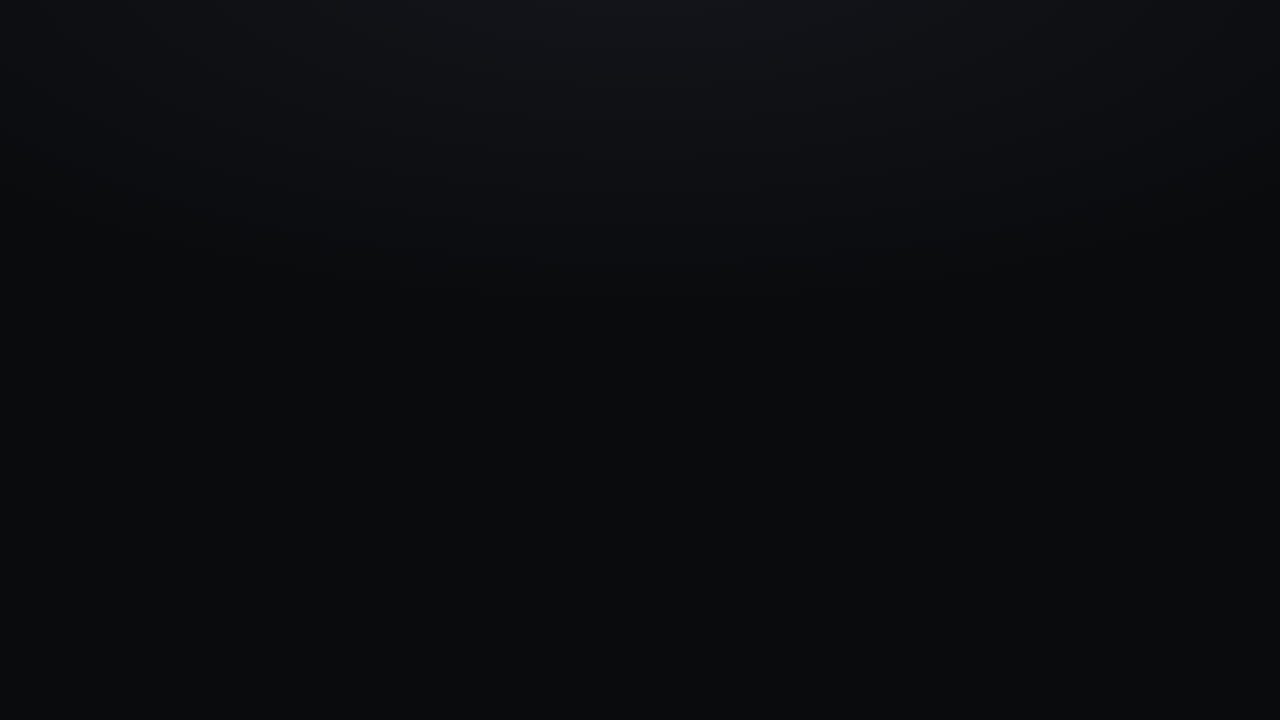
Test: DEV-only 'Toggle free tier (dev)' command (D-31/D-32) › a command-only query match never shows 'No tools match'
Press k
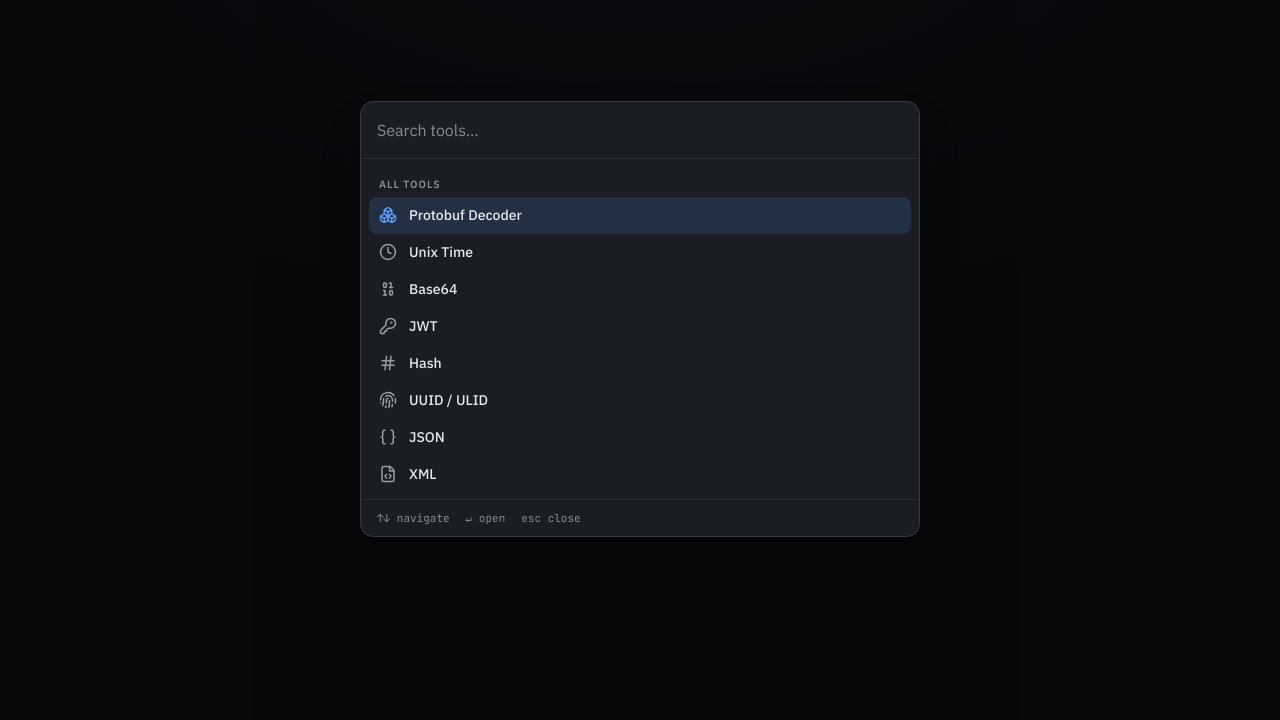
Type "Toggle free tier (dev)" into the field with placeholder "Search tools…". click: (640, 130)
box: [377,118,903,142]
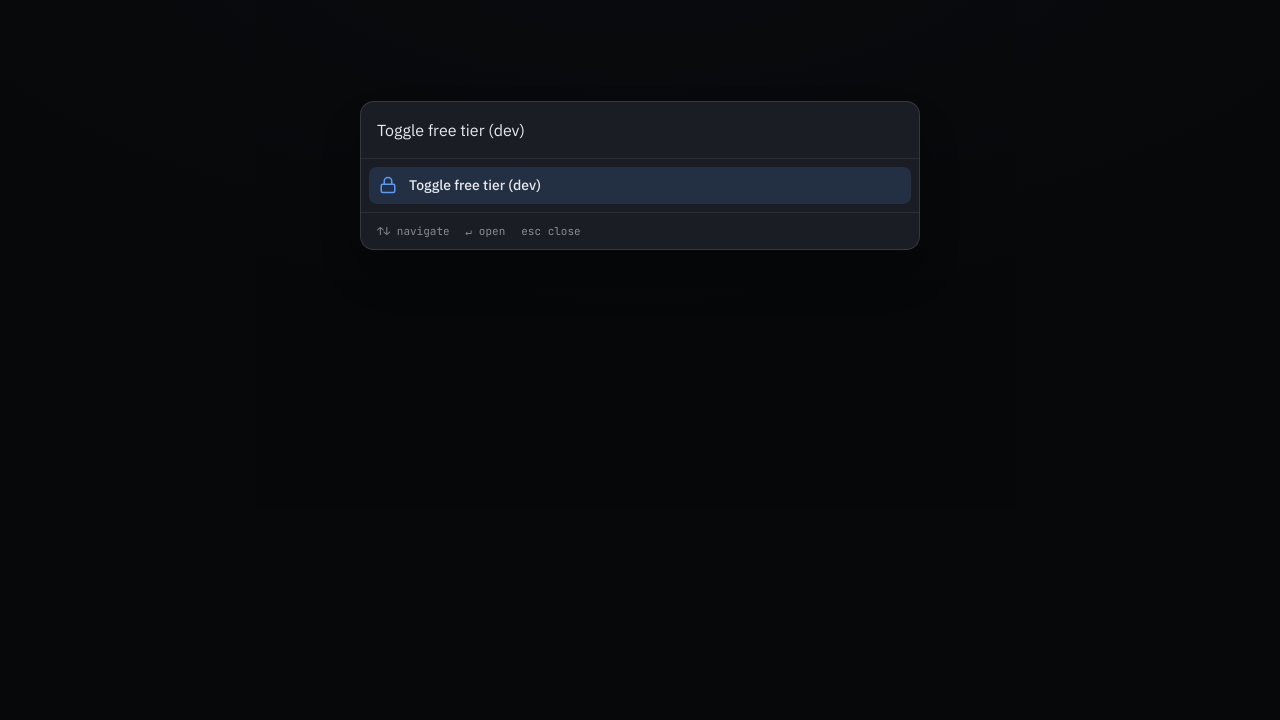
Check: the text "Toggle free tier (dev)" is shown, box [409,176,541,194]
